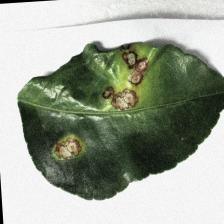canker: (43, 49, 154, 165)
